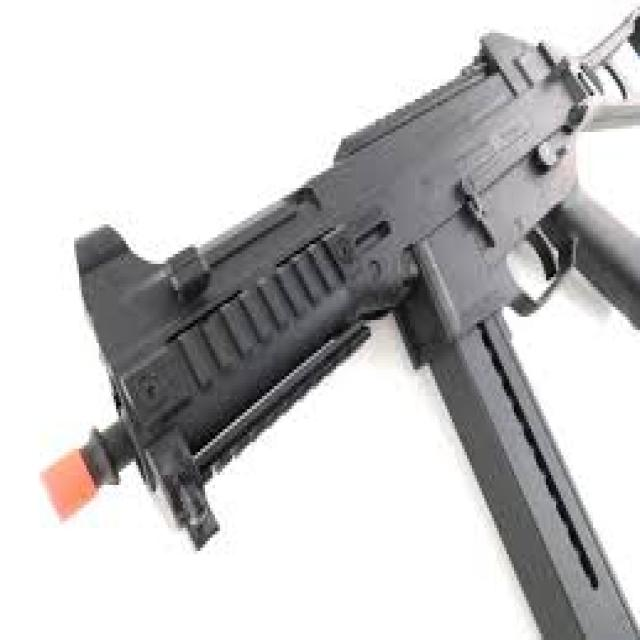Gun: (64, 29, 640, 598)
